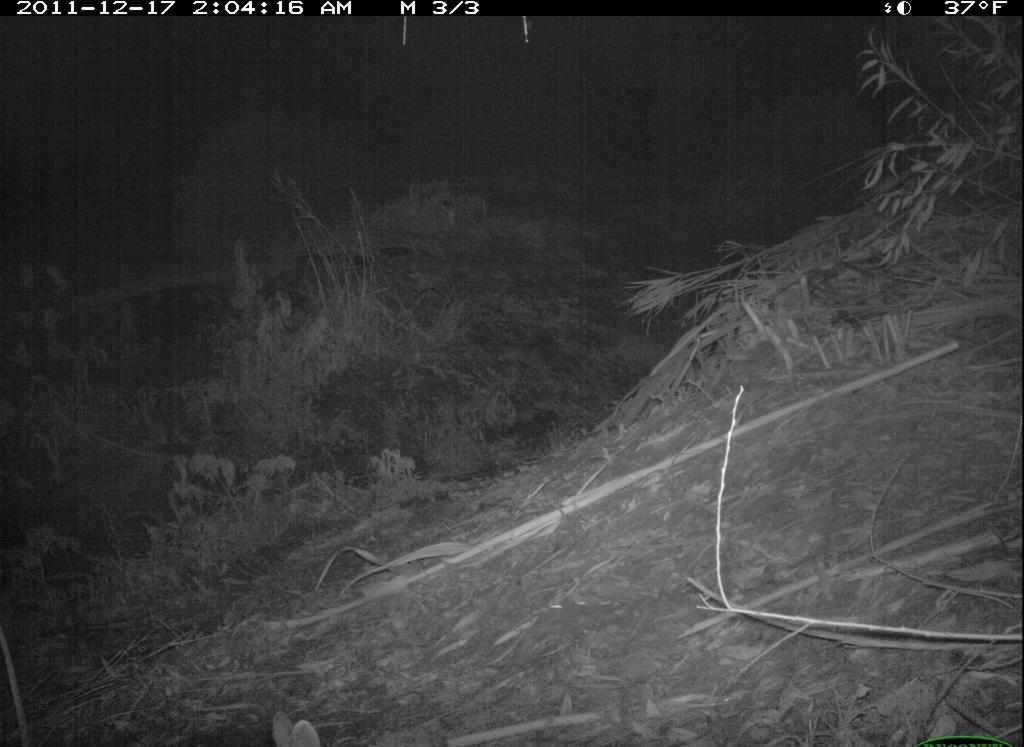rabbit: (258, 708, 332, 745)
